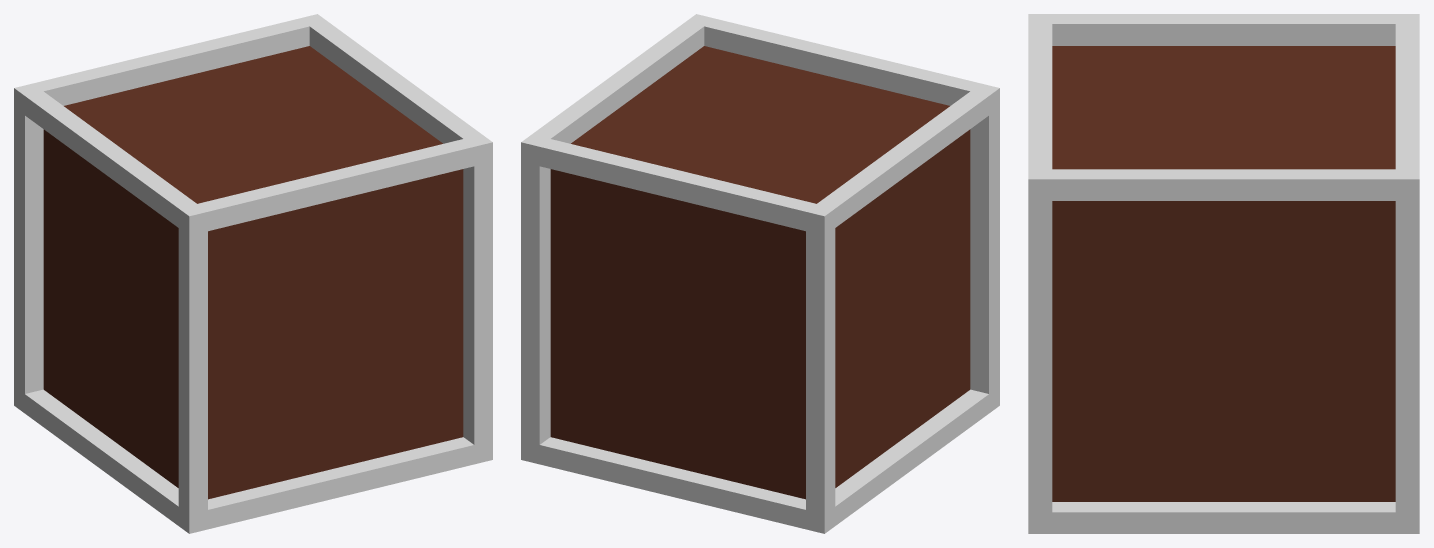
Rendered from Crate.fbx.
The picture shows the model from 3 angles, left to right: view 1: azimuth 30°, elevation 25°; view 2: azimuth 150°, elevation 25°; view 3: azimuth 270°, elevation 25°; orthographic projection. The views are drawn at different scales.
Parts seen in each view (by area): view 1: Create; view 2: Create; view 3: Create.
Part boxes in pixels (x1,y1,x2,y2): Create: (14, 14, 492, 533); Create: (521, 14, 999, 533); Create: (1028, 14, 1419, 533).
Bounding box in the file's own units: 2.28 × 2.28 × 2.28.
